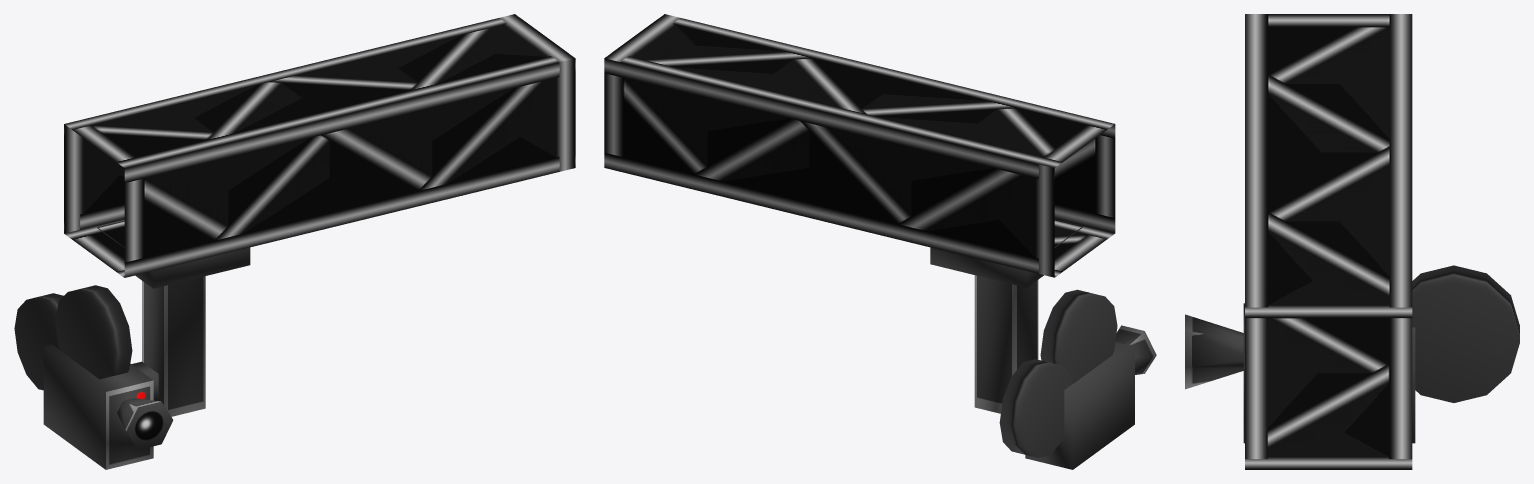
The model's file is camera.fbx.
3 renders of one model, left to right at view 1: azimuth 30°, elevation 25°; view 2: azimuth 150°, elevation 25°; view 3: azimuth 270°, elevation 25°, orthographic. The views are drawn at different scales.
Visible parts, largest first — view 1: camera_rig, camera, camera_arm; view 2: camera_rig, camera, camera_arm; view 3: camera_rig, camera.
Boxes of the visible parts, <box> form: camera_rig: <box>64,14,575,277</box>; camera: <box>14,285,173,469</box>; camera_arm: <box>97,220,250,416</box>; camera_rig: <box>604,14,1115,277</box>; camera: <box>999,289,1156,469</box>; camera_arm: <box>930,219,1082,413</box>; camera_rig: <box>1245,14,1412,469</box>; camera: <box>1185,265,1519,443</box>.
Size of the model in its own units: 17.53 by 10.55 by 7.81.
